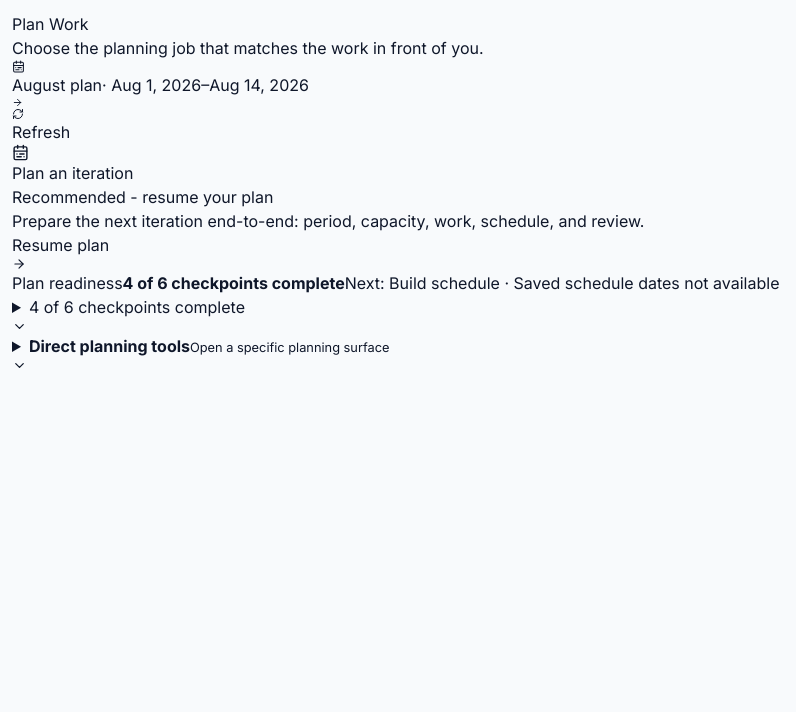
it: PlanPage mixed planning launcher › moves inactive and beta planning jobs into direct tools
Step 1. Click the text "Direct planning tools" → (109, 346), box [29,336,190,356]
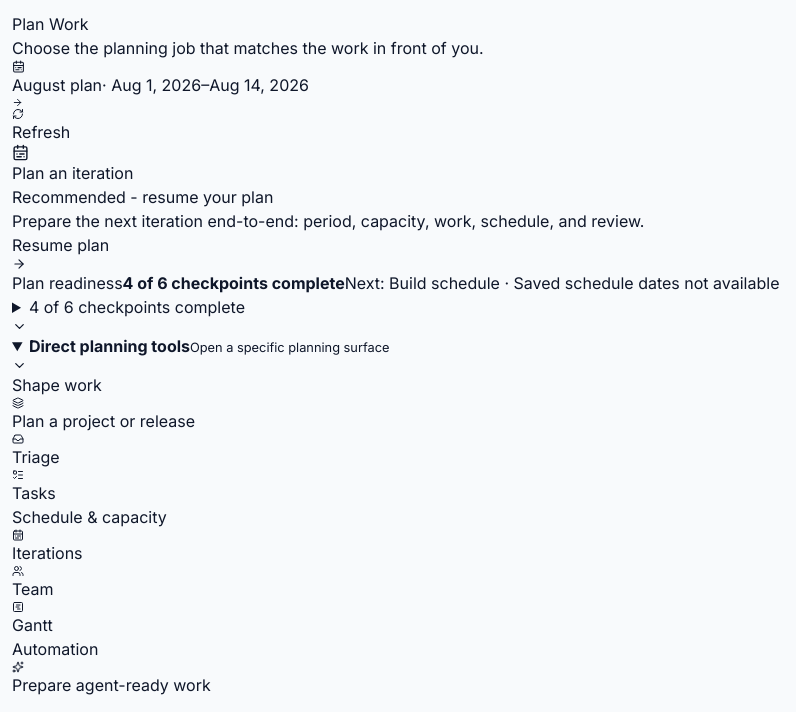
Now the heading "Shape work" is shown, box [12,375,102,395]
Now the heading "Schedule & capacity" is shown, box [12,507,167,527]
Now the heading "Automation" is shown, box [12,639,98,659]
